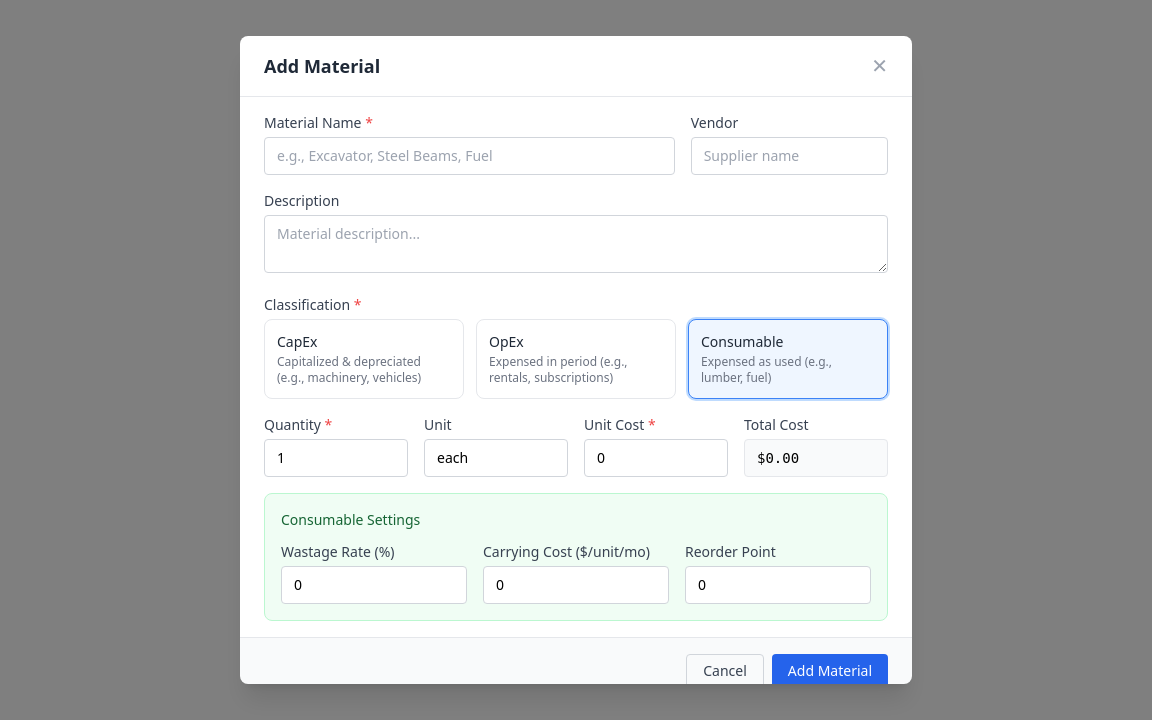
Test: MaterialEditorModal › shows CapEx fields when classification is CapEx
# Click CapEx classification
What coordinates should you click on to do the following:
click the text "CapEx"
I would click on:
 (297, 342)
Its box is [277, 332, 318, 351].
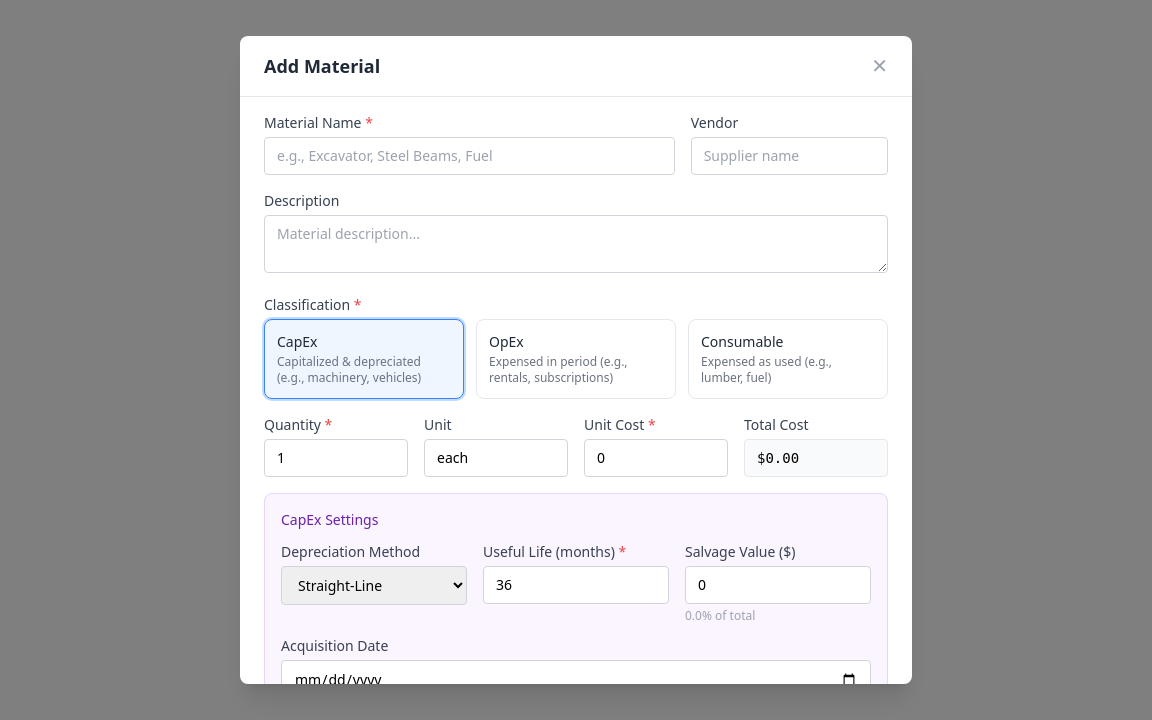
Result: the text "CapEx Settings" is shown at [281, 510, 378, 529]
Result: the text "Depreciation Method" is shown at [281, 542, 420, 561]
